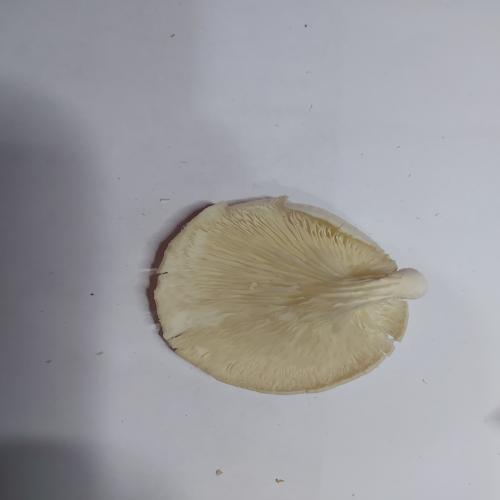Oyster Mushroom: (152, 194, 428, 395)
